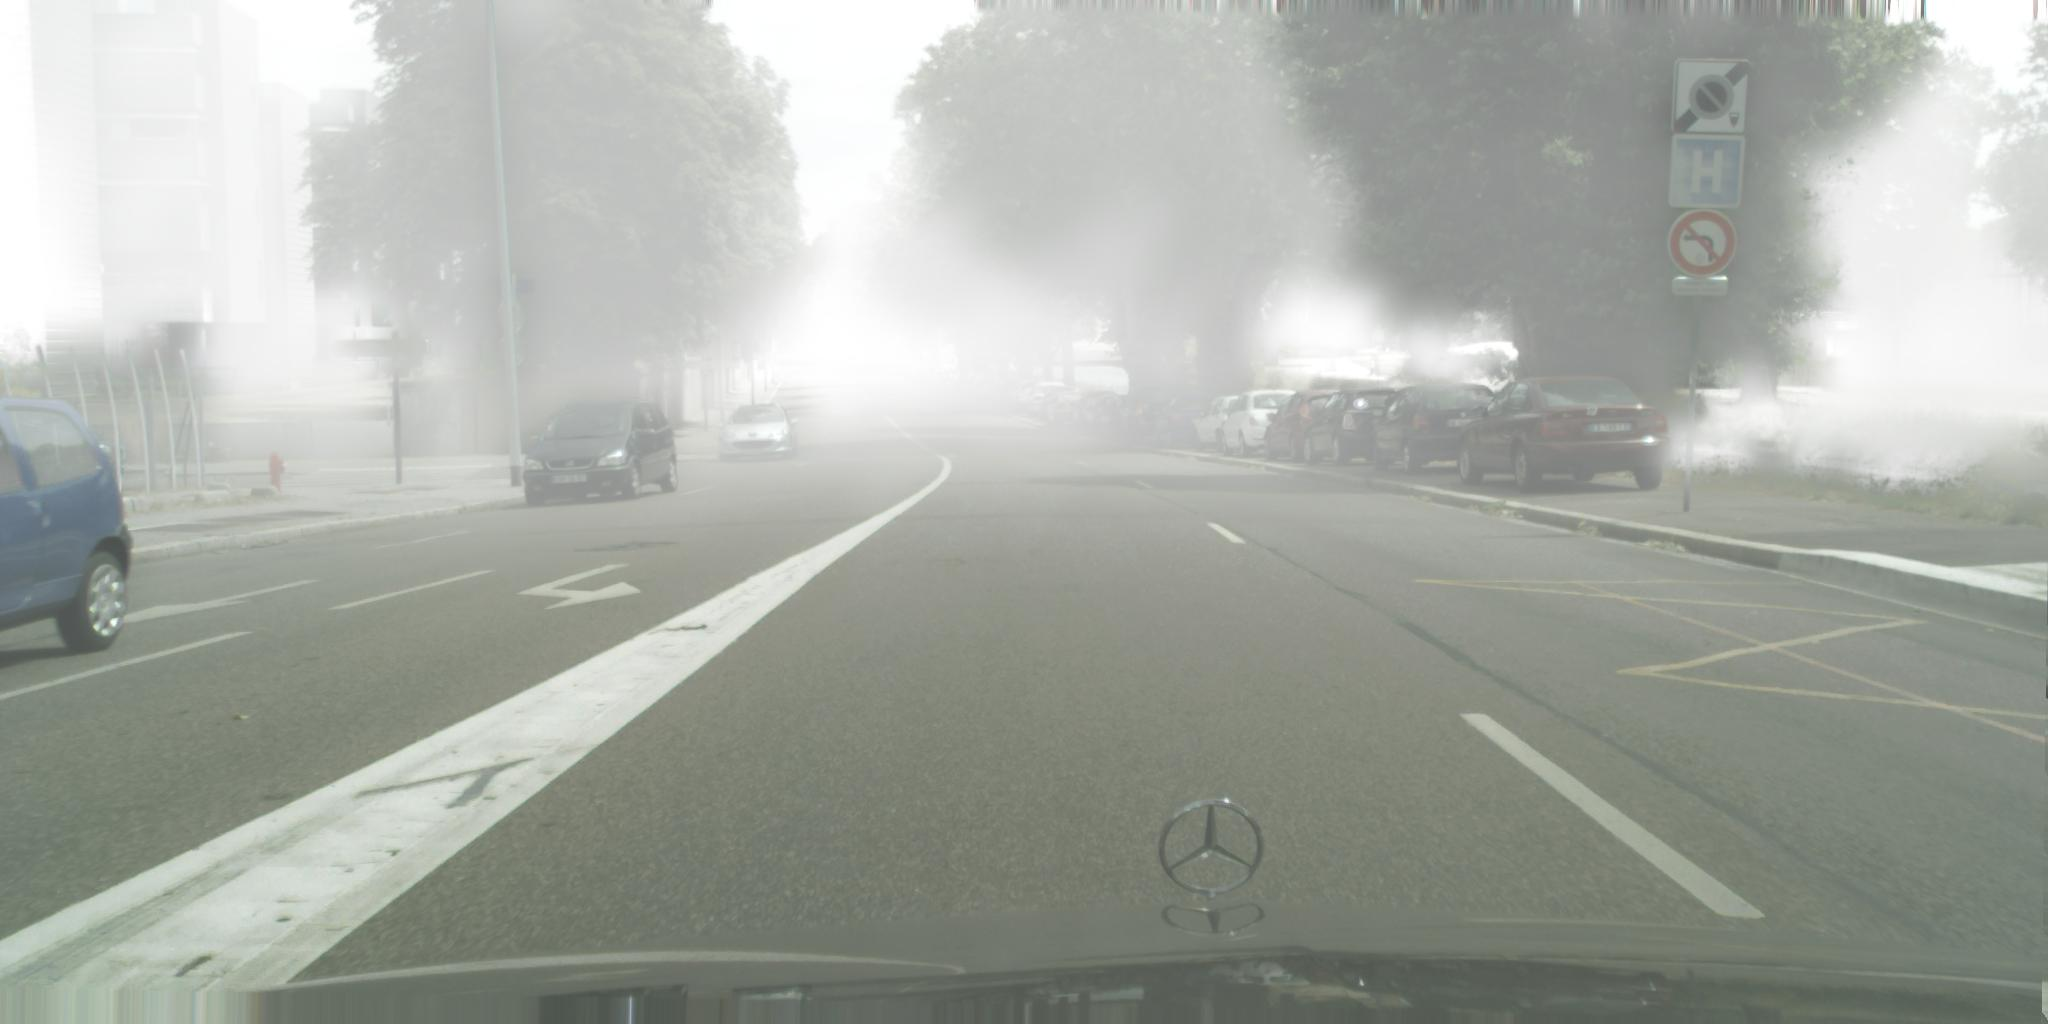car: (1, 398, 133, 650), (1456, 377, 1671, 492), (524, 394, 679, 508), (1374, 384, 1510, 475), (1304, 388, 1413, 466), (1264, 391, 1347, 462), (1223, 391, 1304, 457), (716, 404, 799, 464), (1117, 384, 1192, 445), (1195, 394, 1259, 453), (1155, 394, 1224, 448), (1072, 392, 1136, 441), (1048, 392, 1098, 428), (1028, 381, 1074, 418), (1041, 388, 1081, 421), (1010, 380, 1044, 414), (991, 380, 1024, 408), (906, 364, 922, 381), (822, 345, 835, 358), (846, 355, 859, 366), (797, 346, 808, 357), (869, 357, 882, 366)
